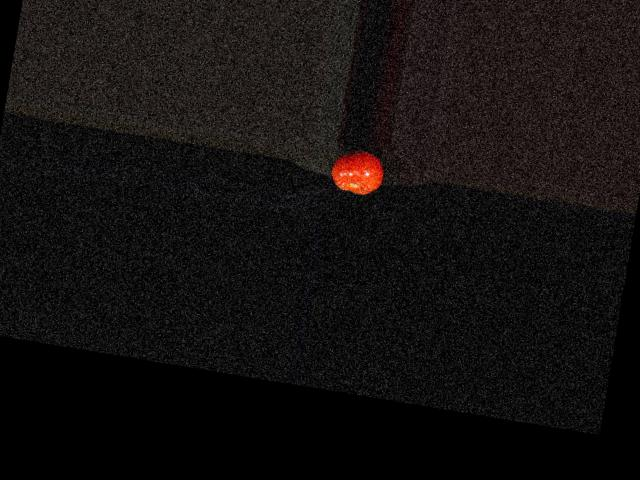tomato: (329, 145, 388, 197)
